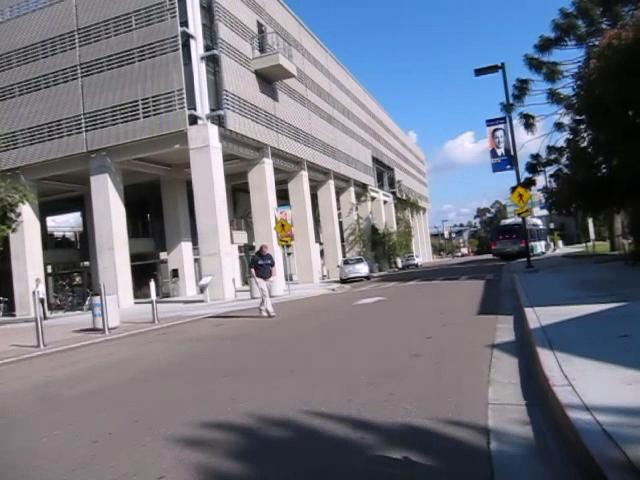pedestrianCrossing: (508, 184, 532, 209)
